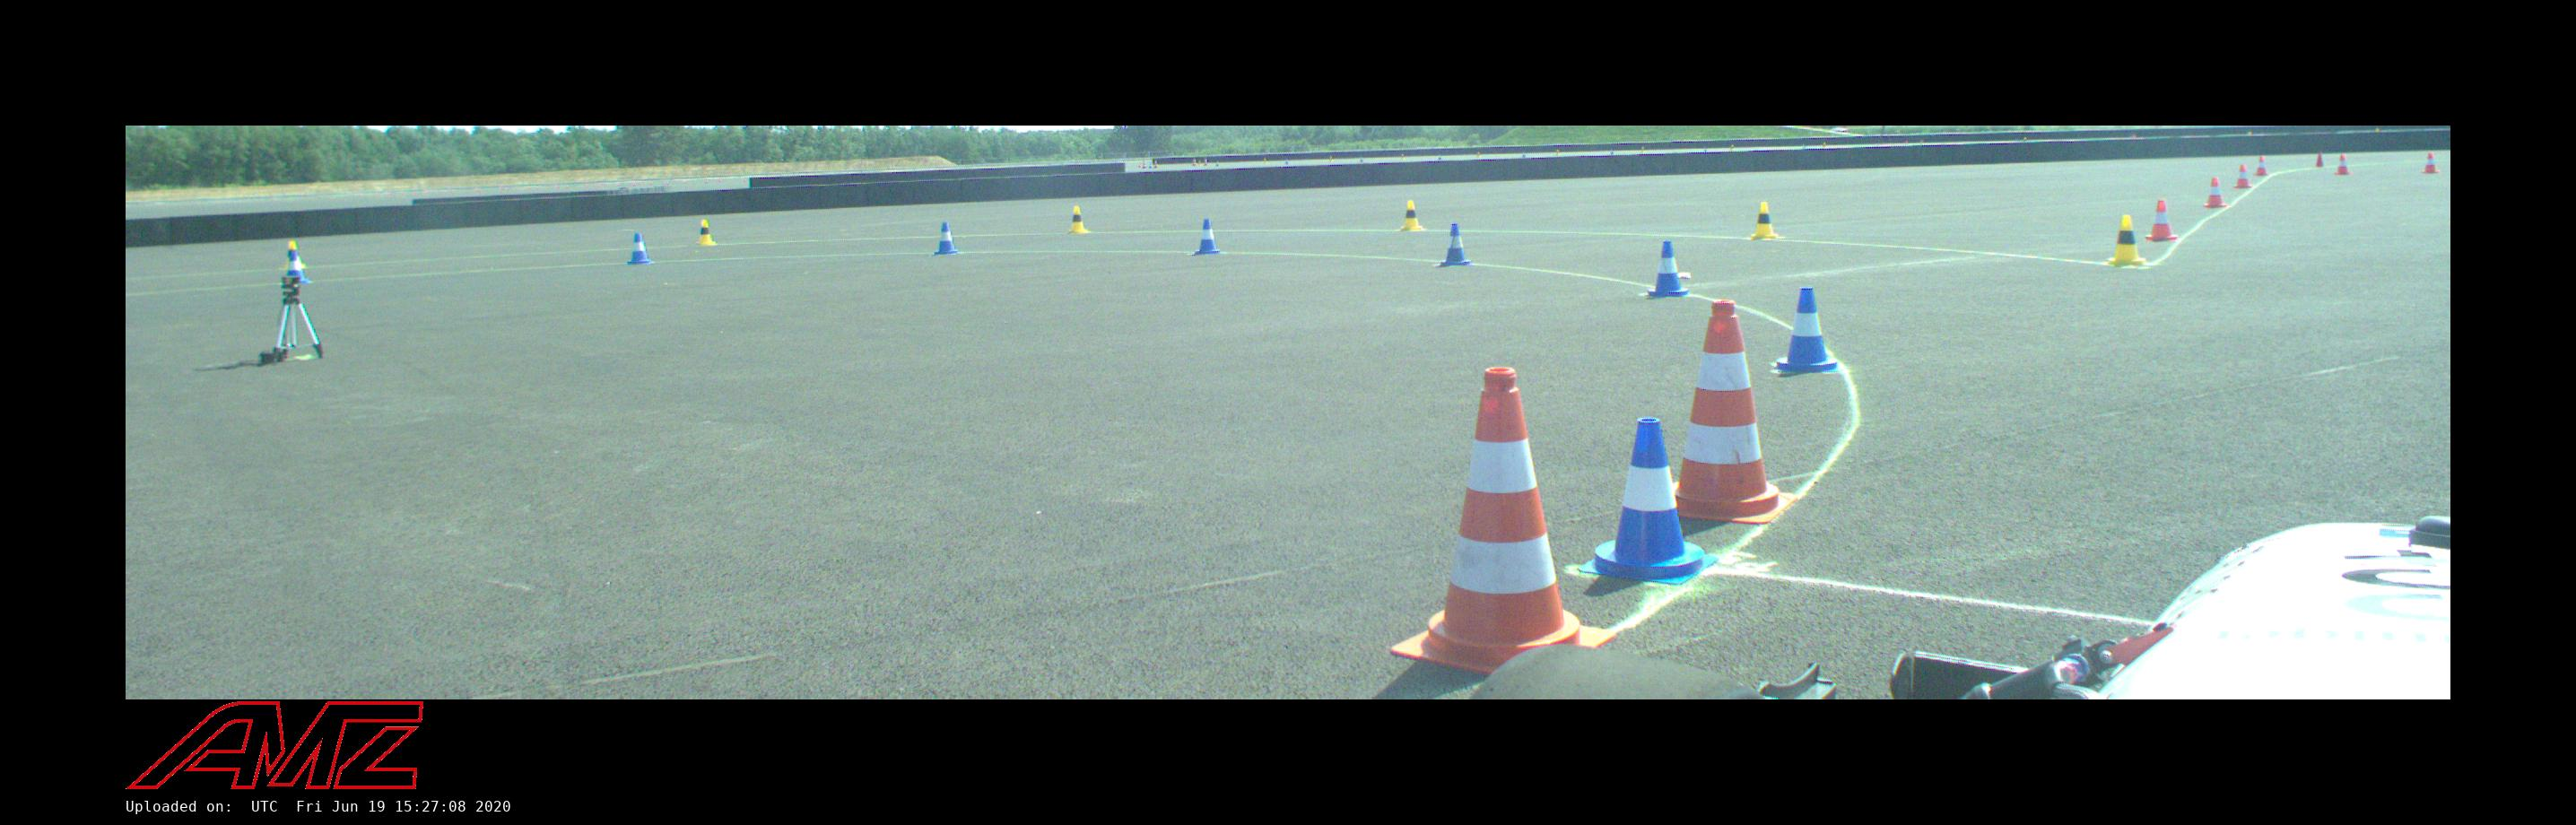blue_cone: (1577, 417, 1718, 585), (1771, 288, 1843, 373), (1644, 240, 1690, 297), (1438, 224, 1470, 266), (1193, 219, 1221, 255), (933, 222, 961, 255), (283, 251, 310, 283), (628, 232, 654, 265)
large_orange_cone: (1388, 366, 1617, 675), (1654, 301, 1799, 524)
orange_cone: (2144, 199, 2178, 240), (2203, 177, 2228, 207), (2233, 164, 2252, 189), (2422, 151, 2440, 173), (2334, 154, 2349, 174), (2256, 156, 2269, 176)
yellow_cone: (2106, 215, 2146, 266), (1750, 202, 1781, 238), (1398, 200, 1426, 230), (1068, 207, 1089, 233), (284, 242, 306, 268), (697, 220, 716, 245)
